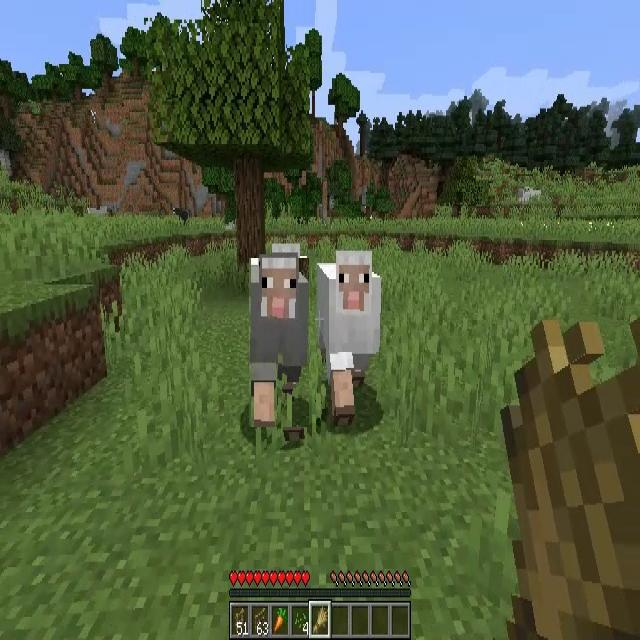sheep: (317, 253, 381, 424), (249, 258, 309, 427)
